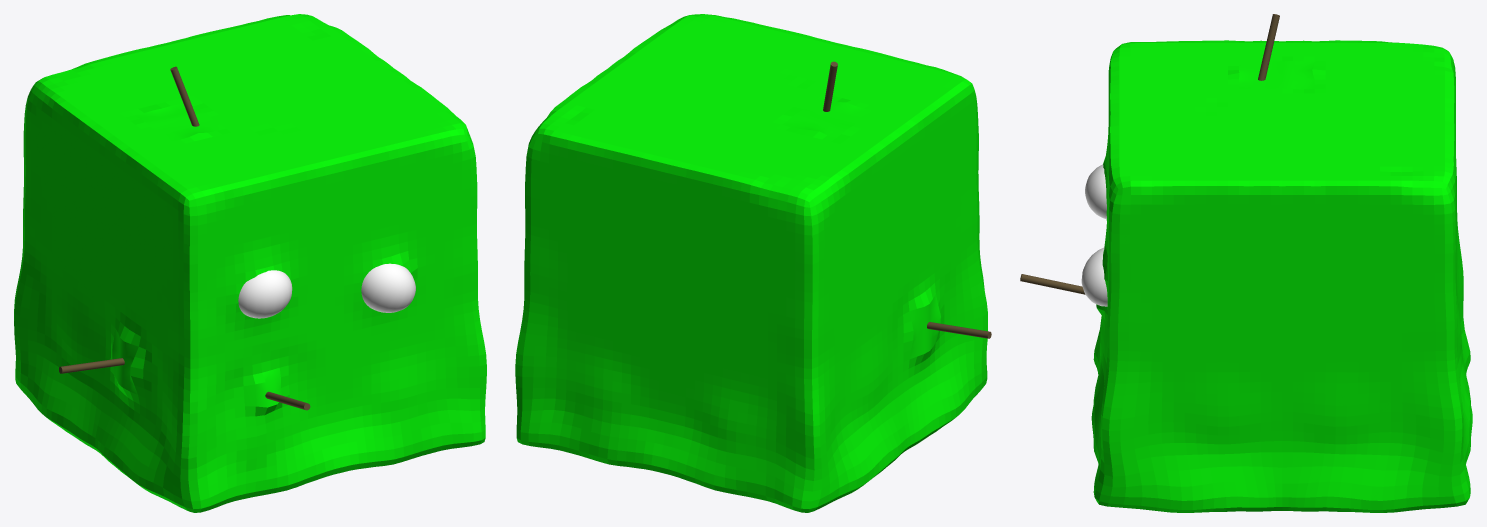
File: Slimecube_Newbody..texture.fbx
3 renders of one model, left to right at view 1: azimuth 30°, elevation 25°; view 2: azimuth 150°, elevation 25°; view 3: azimuth 270°, elevation 25°, orthographic. The views are drawn at different scales.
Parts seen in each view (by area): view 1: Slime_Sube:Group60130; view 2: Slime_Sube:Group60130; view 3: Slime_Sube:Group60130.
Part boxes in pixels (box(x1,y1,x2,y2)): Slime_Sube:Group60130: box(14, 14, 486, 512); Slime_Sube:Group60130: box(515, 14, 991, 512); Slime_Sube:Group60130: box(1020, 14, 1472, 512).
Bounding box in the file's own units: 1.61 × 1.53 × 1.64.
